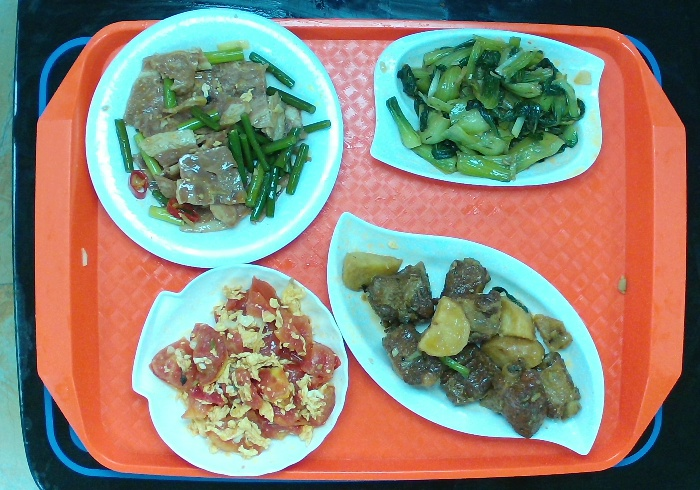RJxy-Bei_Ke_Wan: (129, 261, 350, 478)
RJxy-Jian_Jiao_Fang_Die: (368, 26, 606, 188)
RJxy-Jian_Jiao_Pan: (325, 209, 606, 457)
RJxy-Yuan_Pan: (84, 6, 345, 270)
